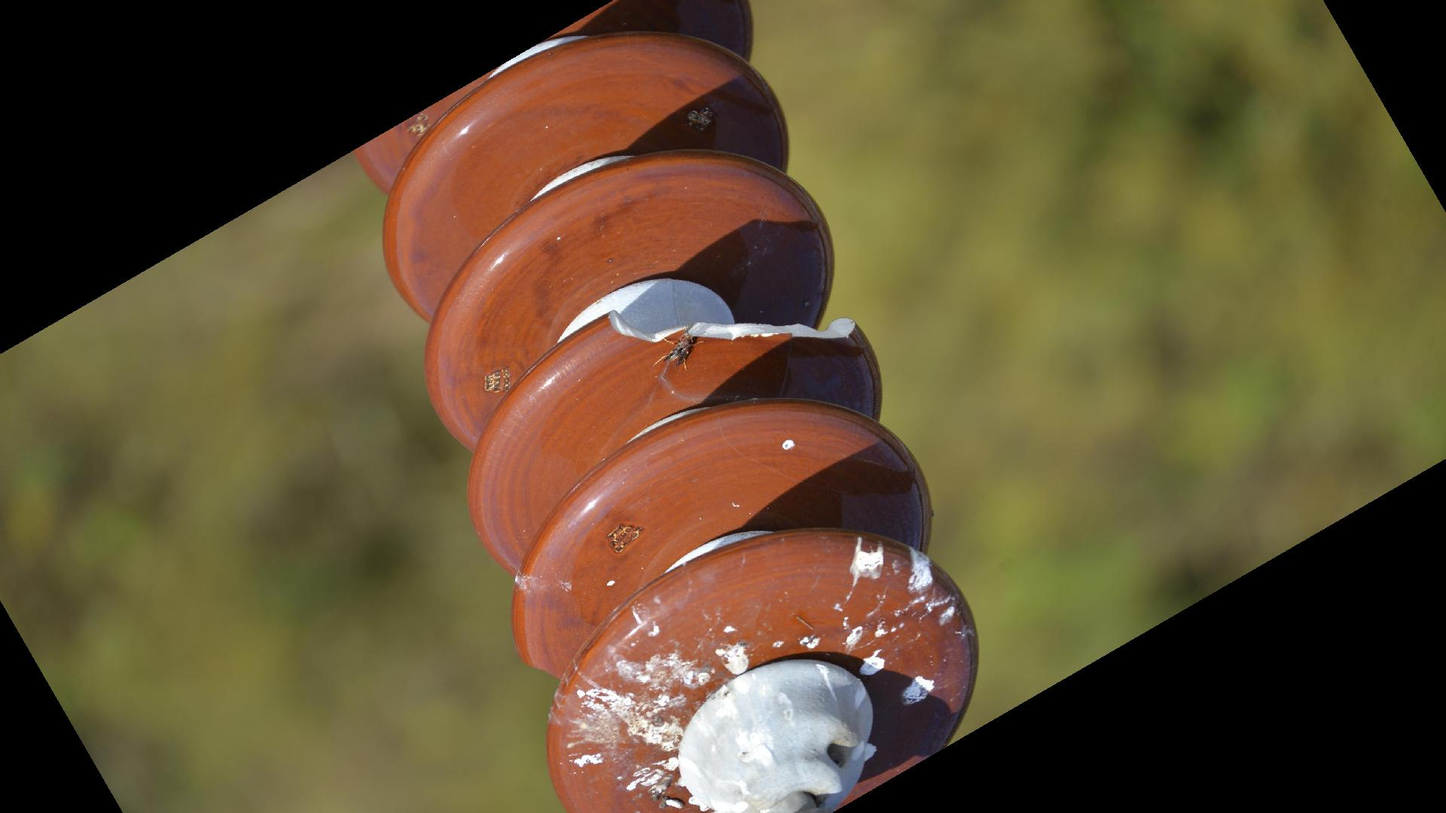insulator: (346, 1, 987, 813)
insulator_breakage: (600, 305, 862, 346)
